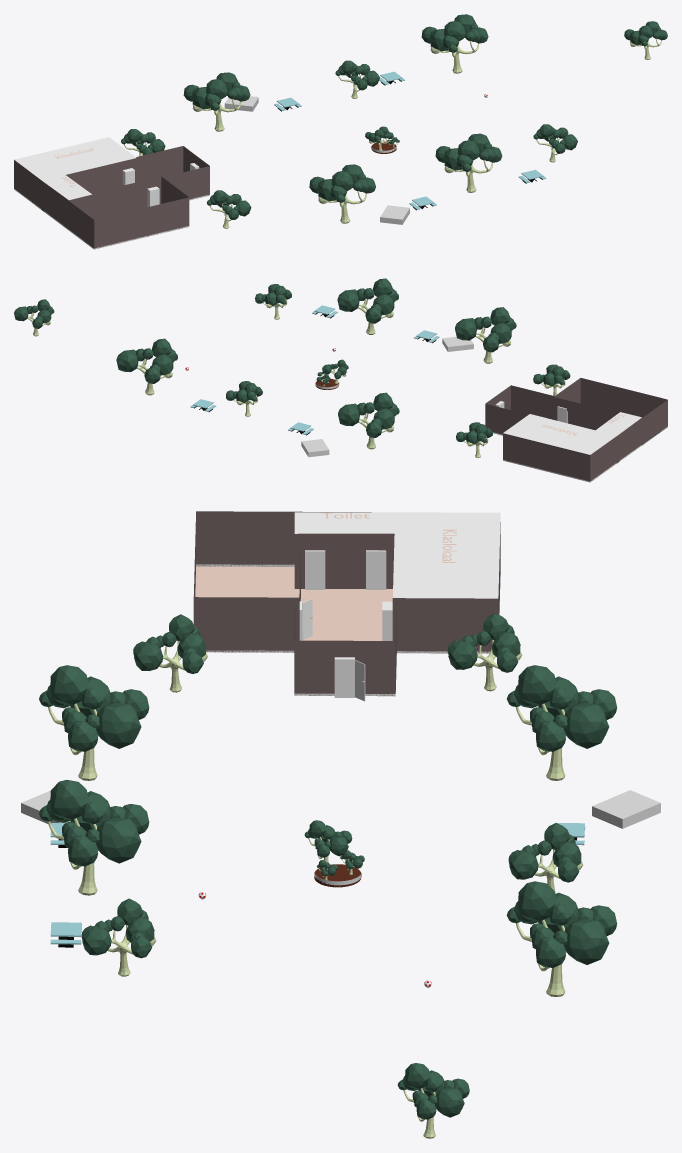
Rendered from StadV3.glb.
The picture shows the model from 3 angles, top to bottom: view 1: azimuth 30°, elevation 25°; view 2: azimuth 150°, elevation 25°; view 3: azimuth 270°, elevation 25°; orthographic projection. The views are drawn at different scales.
Visible parts, largest first — view 1: Class, Room, Ceiling.001, Class.001, Leaves.001, Leaves.003, Leaves.007, Leaves.004, Leaves.002, Leaves.005, Leaves.006, Leaves.008 (+5 smaller); view 2: Room, Ceiling.001, Class, Leaves.001, Leaves.004, Leaves.007, Leaves.003, Leaves, Ceiling, Class.001, Leaves.006, Leaves.008 (+4 smaller); view 3: Room, Ceiling.001, Floor, Leaves.004, Leaves.003, Leaves.007, Leaves.001, Toilet.001, Leaves, Leaves.002, Leaves.005, Leaves.008 (+5 smaller).
Boxes of the visible parts, x1=… form: Class: x1=66, y1=176, x2=189, y2=248; Room: x1=44, y1=146, x2=209, y2=228; Ceiling.001: x1=14, y1=137, x2=136, y2=180; Class.001: x1=14, y1=158, x2=136, y2=208; Leaves.001: x1=421, y1=14, x2=488, y2=52; Leaves.003: x1=183, y1=72, x2=250, y2=110; Leaves.007: x1=435, y1=133, x2=502, y2=171; Leaves.004: x1=309, y1=164, x2=375, y2=202; Leaves.002: x1=533, y1=124, x2=577, y2=153; Leaves.005: x1=335, y1=60, x2=379, y2=90; Leaves.006: x1=207, y1=190, x2=251, y2=219; Leaves.008: x1=121, y1=129, x2=165, y2=155; Room: x1=485, y1=378, x2=667, y2=481; Ceiling.001: x1=503, y1=414, x2=616, y2=454; Class: x1=553, y1=378, x2=667, y2=445; Leaves.001: x1=116, y1=338, x2=177, y2=383; Leaves.004: x1=455, y1=307, x2=516, y2=352; Leaves.007: x1=337, y1=278, x2=398, y2=323; Leaves.003: x1=338, y1=392, x2=399, y2=437; Leaves: x1=14, y1=299, x2=54, y2=328; Ceiling: x1=595, y1=412, x2=641, y2=435; Class.001: x1=503, y1=435, x2=616, y2=480; Leaves.006: x1=533, y1=364, x2=570, y2=386; Leaves.008: x1=456, y1=422, x2=492, y2=444; Room: x1=193, y1=511, x2=500, y2=696; Ceiling.001: x1=393, y1=512, x2=500, y2=598; Floor: x1=195, y1=566, x2=392, y2=640; Leaves.004: x1=39, y1=665, x2=149, y2=751; Leaves.003: x1=507, y1=665, x2=617, y2=751; Leaves.007: x1=39, y1=780, x2=149, y2=866; Leaves.001: x1=506, y1=881, x2=617, y2=967; Toilet.001: x1=294, y1=533, x2=394, y2=588; Leaves: x1=397, y1=1063, x2=469, y2=1119; Leaves.002: x1=81, y1=898, x2=154, y2=958; Leaves.005: x1=508, y1=823, x2=581, y2=882; Leaves.008: x1=447, y1=613, x2=520, y2=672.
Bounding box in the file's own units: 126 × 11.04 × 59.1.
